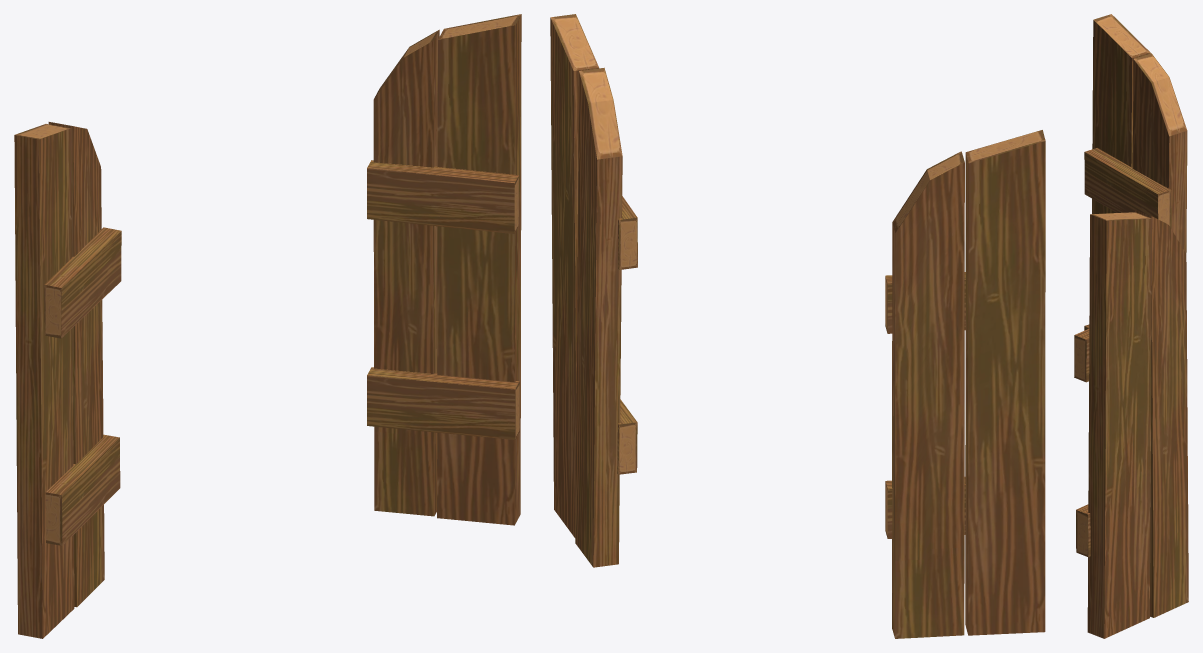
Rendered from WindowShutters_Thin_Round_Open.glb.
The picture shows the model from 3 angles, left to right: view 1: azimuth 30°, elevation 25°; view 2: azimuth 150°, elevation 25°; view 3: azimuth 270°, elevation 25°; orthographic projection. The views are drawn at different scales.
Visible parts, largest first — view 1: WindowShutters_Thin_Round_Open; view 2: WindowShutters_Thin_Round_Open; view 3: WindowShutters_Thin_Round_Open.
Part boxes in pixels (<box>): WindowShutters_Thin_Round_Open: <box>14,14,521,638</box>; WindowShutters_Thin_Round_Open: <box>550,14,1045,638</box>; WindowShutters_Thin_Round_Open: <box>1074,14,1188,638</box>.
Size of the model in its own units: 1.61 by 1.52 by 0.3765.
Materials: 1 (1 with a texture image).
